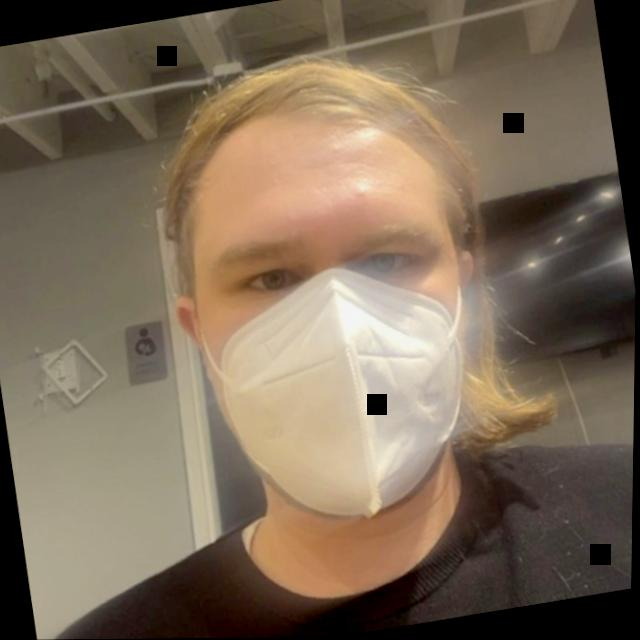Mask: (81, 14, 592, 639)
